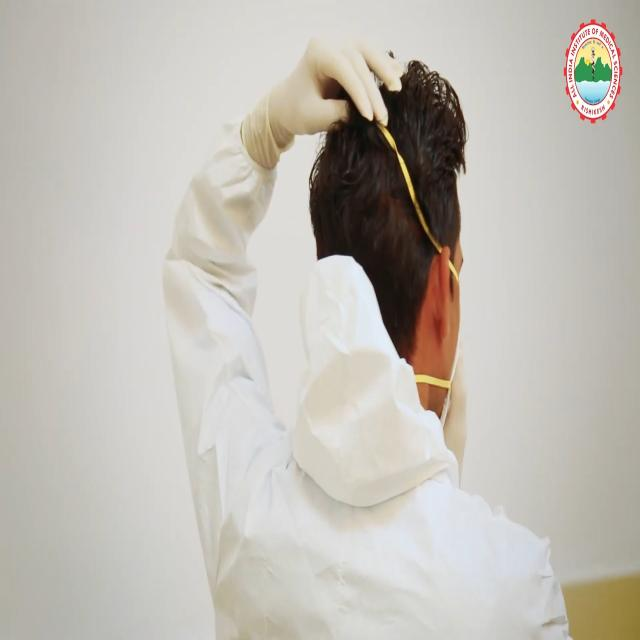Gloves: (239, 31, 410, 160)
